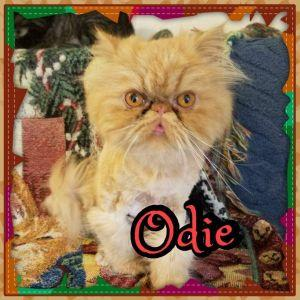persian: (80, 19, 248, 184)
